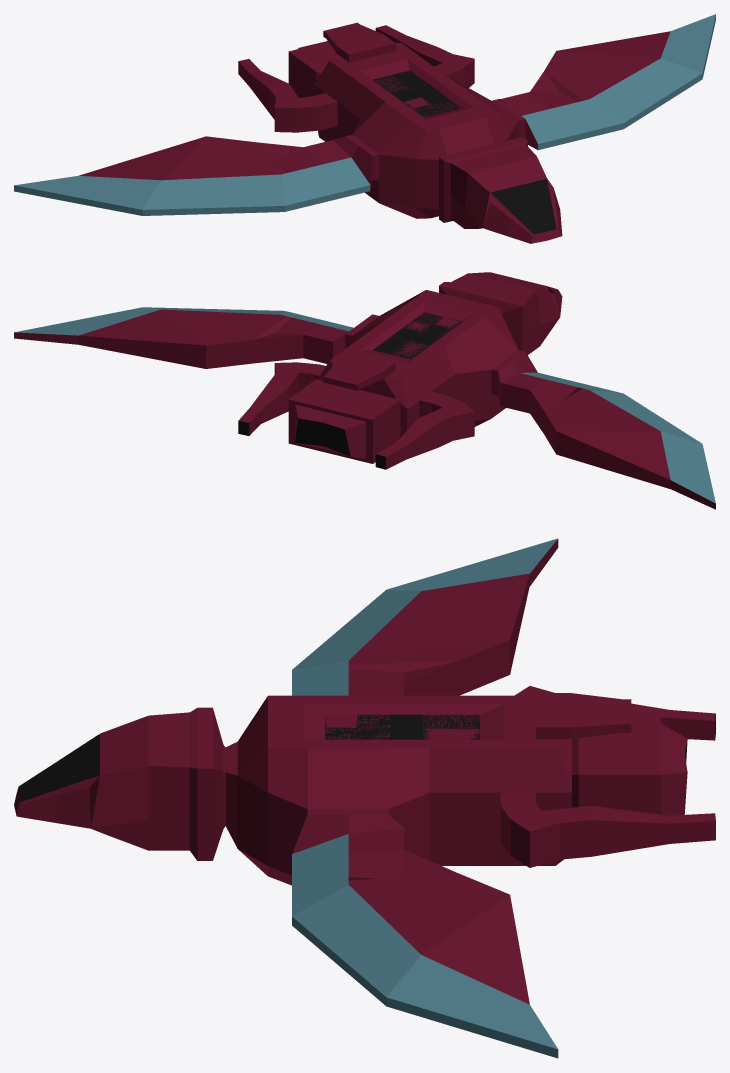
File: SpaceBug.fbx
3 views of the same model, one above another, from view 1: azimuth 30°, elevation 25°; view 2: azimuth 150°, elevation 25°; view 3: azimuth 270°, elevation 25° (orthographic). The views are drawn at different scales.
Parts seen in each view (by area): view 1: Cube; view 2: Cube; view 3: Cube.
Boxes of the visible parts, <box> form: Cube: <box>14,14,715,243</box>; Cube: <box>14,272,715,509</box>; Cube: <box>14,538,715,1058</box>.
Size of the model in its own units: 1497 by 216 by 869.
